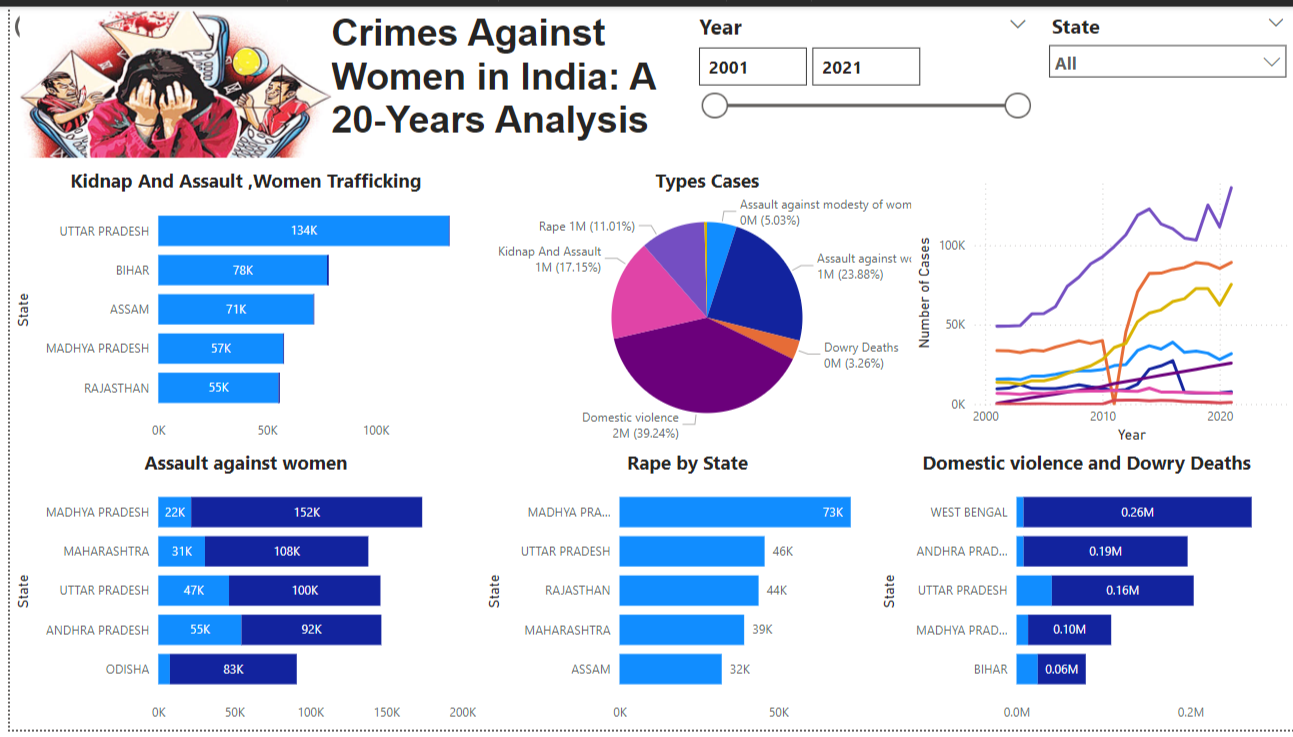

This screenshot's page, from the dashboard's own definition file:
{"tool":"powerbi","page":{"name":"Page 1","canvas":[1280,720],"ordinal":0},"visuals":[{"type":"barChart","title":"Assault against women","fields":{"Category":["CrimesOnWomenData.State"],"Y":["Sum(CrimesOnWomenData.AoM)","Sum(CrimesOnWomenData.AoW)"]},"box":[0,440.5,469.3,279.9],"z":0},{"type":"barChart","title":"Rape by State","fields":{"Category":["CrimesOnWomenData.State"],"Y":["Sum(CrimesOnWomenData.Rape)"]},"box":[469.3,440.5,410.3,279.9],"z":1000},{"type":"barChart","title":"Domestic violence and Dowry Deaths","fields":{"Category":["CrimesOnWomenData.State"],"Y":["Sum(CrimesOnWomenData.DD)","Sum(CrimesOnWomenData.DV)"]},"box":[861.8,440.5,418.5,279.9],"z":2000},{"type":"barChart","title":"Kidnap And Assault ,Women Trafficking","fields":{"Category":["CrimesOnWomenData.State"],"Y":["Sum(CrimesOnWomenData.K&A)","Sum(CrimesOnWomenData.WT)"]},"box":[0,160.5,469.3,279.9],"z":3000},{"type":"pieChart","title":"Types Cases","fields":{"Y":["Sum(CrimesOnWomenData.AoM)","Sum(CrimesOnWomenData.AoW)","Sum(CrimesOnWomenData.DD)","Sum(CrimesOnWomenData.DV)","Sum(CrimesOnWomenData.K&A)","Sum(CrimesOnWomenData.Rape)","Sum(CrimesOnWomenData.WT)"]},"box":[469.4,160.7,449.7,279.1],"z":4000},{"type":"lineChart","fields":{"Category":["CrimesOnWomenData.Year"],"Y":["Sum(CrimesOnWomenData.Rape)","Sum(CrimesOnWomenData.AoM)","Sum(CrimesOnWomenData.AoW)","Sum(CrimesOnWomenData.Column1)","Sum(CrimesOnWomenData.DD)","Sum(CrimesOnWomenData.DV)","Sum(CrimesOnWomenData.K&A)","Sum(CrimesOnWomenData.WT)"]},"box":[896.6,160.7,383.4,279.1],"z":5000},{"type":"actionButton","box":[0,0,100,40],"z":6000},{"type":"slicer","fields":{"Values":["CrimesOnWomenData.State"]},"box":[1023.4,0,256.6,80.4],"z":7000},{"type":"textbox","box":[314.4,0,359.5,160.7],"z":9000},{"type":"slicer","fields":{"Values":["CrimesOnWomenData.Year"]},"box":[672.4,0,351,160.7],"z":9001},{"type":"image","box":[0,0,329.9,155.1],"z":9002}]}

Visuals, with their boxes in screenshot pixels (x1, y1, x2, y2), scaled from the page's 1280x720 canvas onto the 1293x737 screenshot:
"Assault against women" barChart: l=0, t=451, r=474, b=736
"Rape by State" barChart: l=474, t=451, r=889, b=736
"Domestic violence and Dowry Deaths" barChart: l=871, t=451, r=1292, b=736
"Kidnap And Assault ,Women Trafficking" barChart: l=0, t=164, r=474, b=451
"Types Cases" pieChart: l=474, t=164, r=928, b=450
lineChart - CrimesOnWomenData.Year x Sum(CrimesOnWomenData.Rape): l=906, t=164, r=1292, b=450
actionButton: l=0, t=0, r=101, b=41
slicer - CrimesOnWomenData.State: l=1034, t=0, r=1292, b=82
textbox: l=318, t=0, r=681, b=164
slicer - CrimesOnWomenData.Year: l=679, t=0, r=1034, b=164
image: l=0, t=0, r=333, b=159
